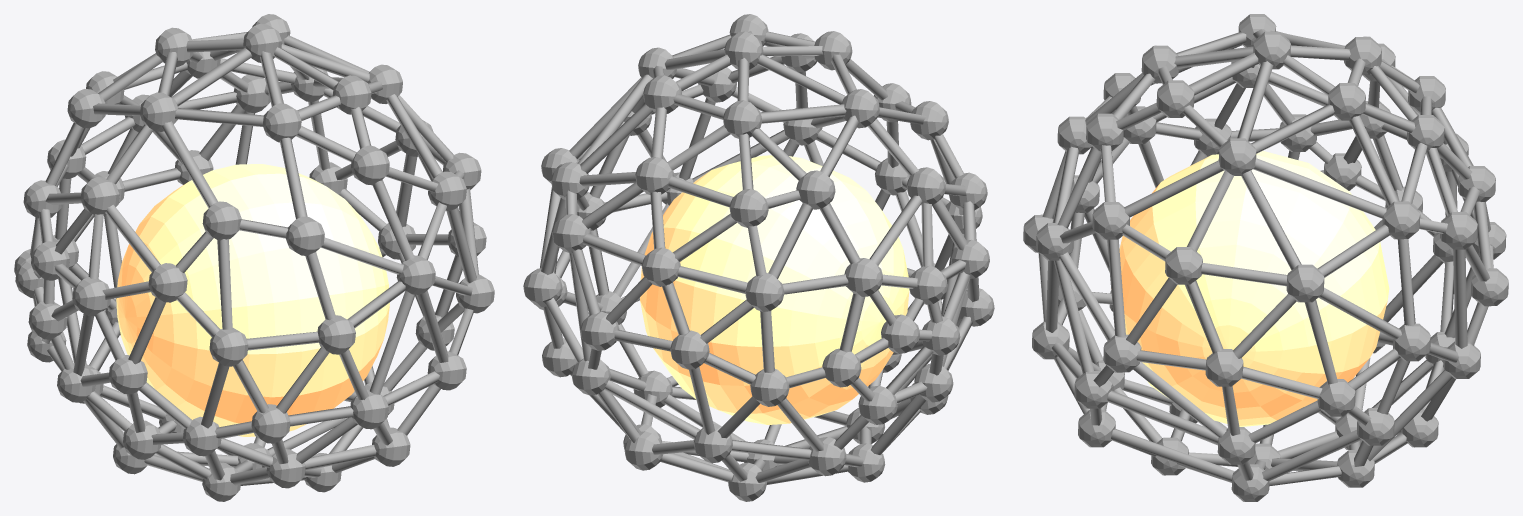
The model's file is Sunballmod.glb.
3 renders of one model, left to right at view 1: azimuth 30°, elevation 25°; view 2: azimuth 150°, elevation 25°; view 3: azimuth 270°, elevation 25°, orthographic. The views are drawn at different scales.
Visible parts, largest first — view 1: 01Communities; view 2: 01Communities; view 3: 01Communities.
Part boxes in pixels (<box>): 01Communities: <box>14,14,494,501</box>; 01Communities: <box>523,14,994,501</box>; 01Communities: <box>1023,14,1508,501</box>.
Bounding box in the file's own units: 4.43 × 4.47 × 4.34.
